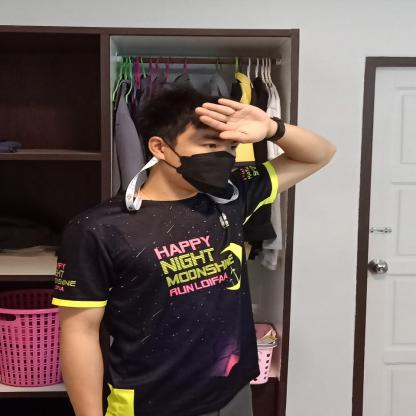Sick: (174, 84, 340, 192)
